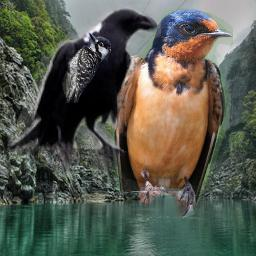Crow: (6, 4, 161, 180)
Swallow: (110, 8, 233, 219)
Woodpecker: (53, 30, 111, 103)
